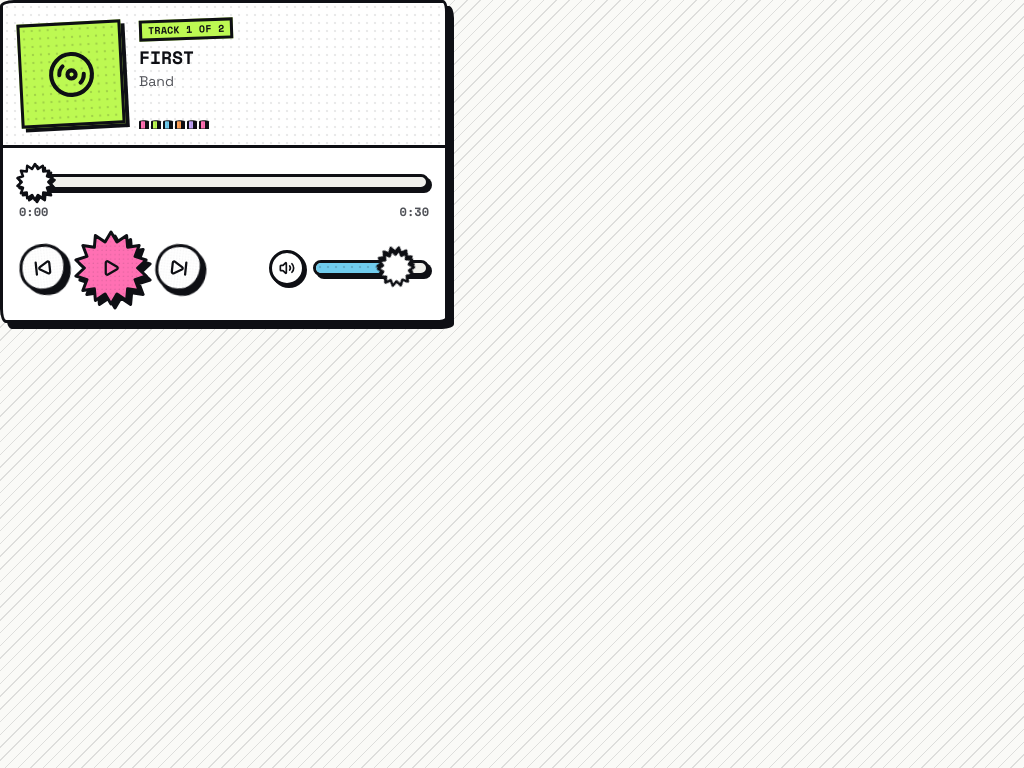
ComicAudioPlayer › is a labelled player that plays, pauses, and skips
Expected: the element named "Audio player: First" is shown, [0,0,448,322]
Expected: the text "Track 1 of 2" is shown, [139,17,234,42]
Click the button named "Play" at (111, 268), box [75,232,147,304]
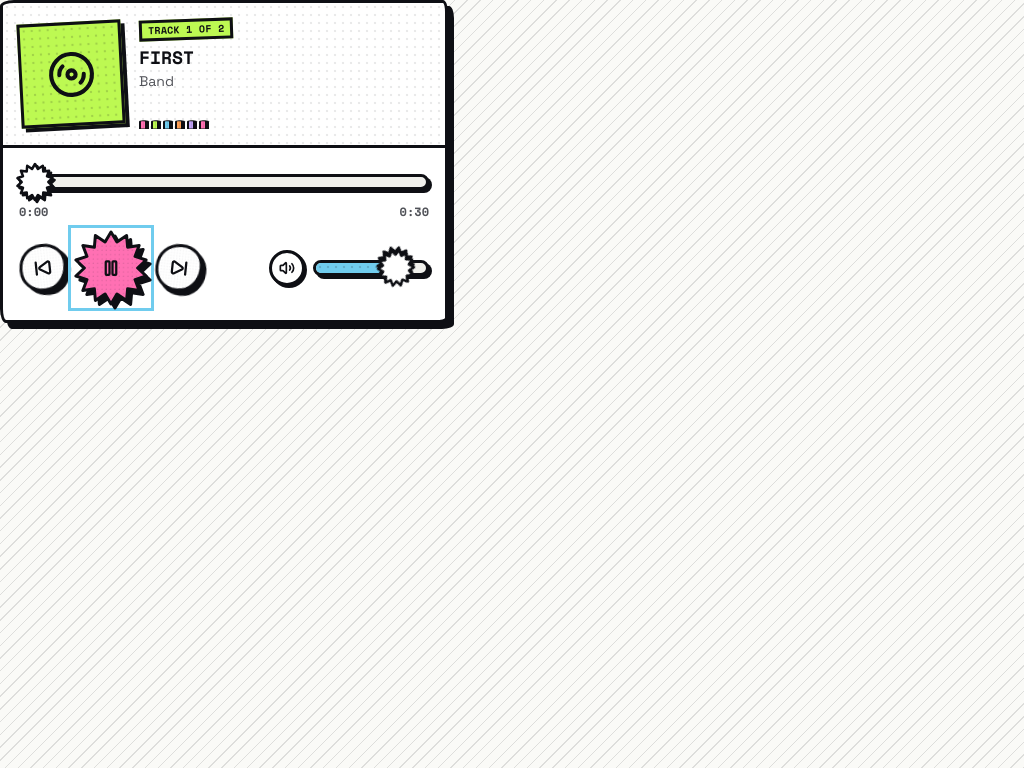
Expected: the button named "Pause" is shown, [75,232,147,304]
Click the button named "Next track" at (179, 268), box [153,241,205,294]
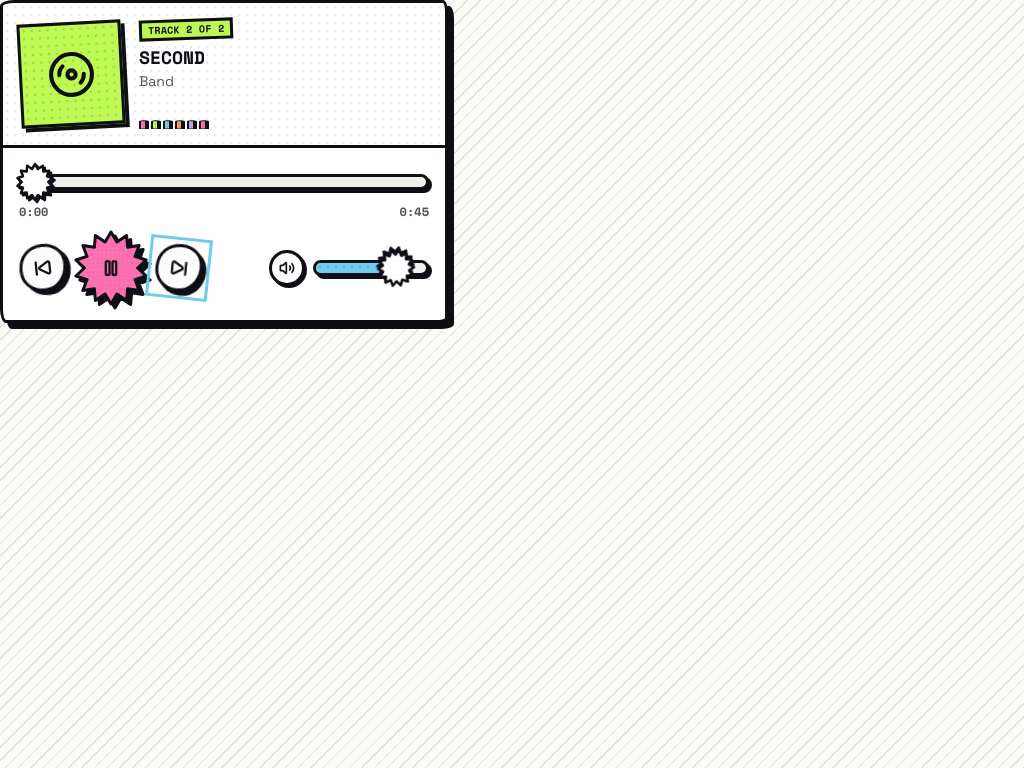
Expected: the text "Second" is shown, [139,44,205,70]
